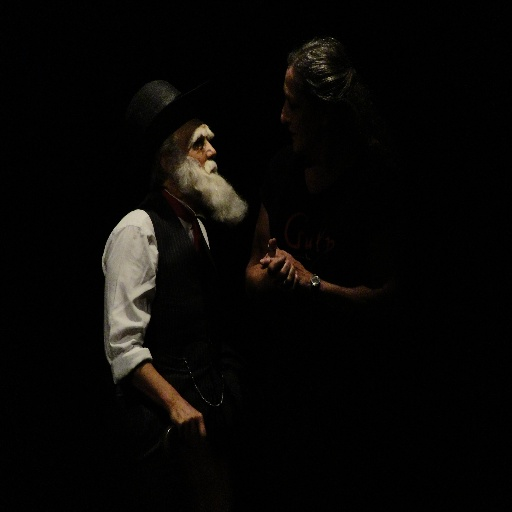hand: (251, 237, 323, 298), (166, 398, 208, 445), (266, 255, 299, 293)
